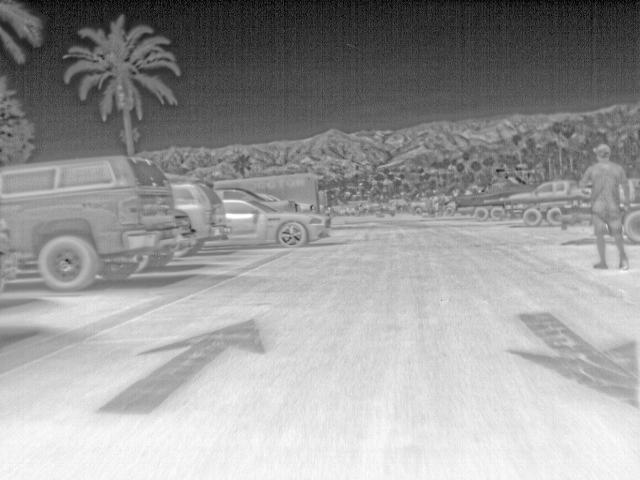car: (1, 154, 176, 292), (221, 196, 334, 248), (167, 181, 229, 243), (508, 178, 591, 203), (215, 188, 302, 210), (171, 208, 198, 253)
person: (577, 144, 637, 272)
